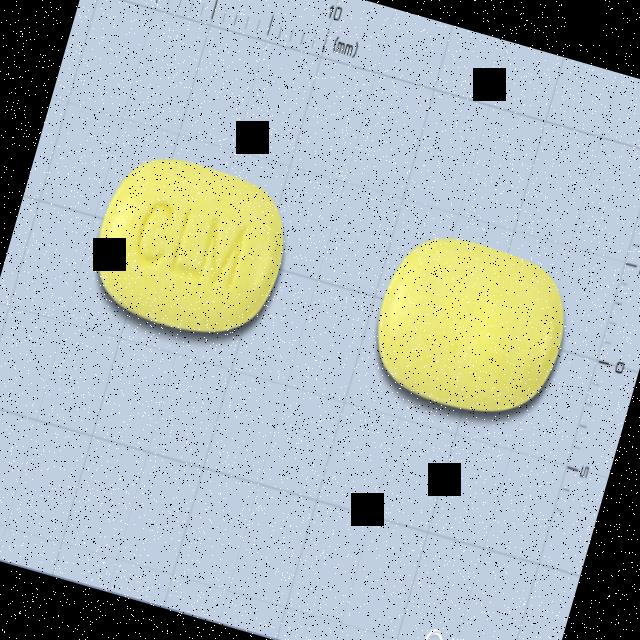Larith: (79, 142, 301, 352)
